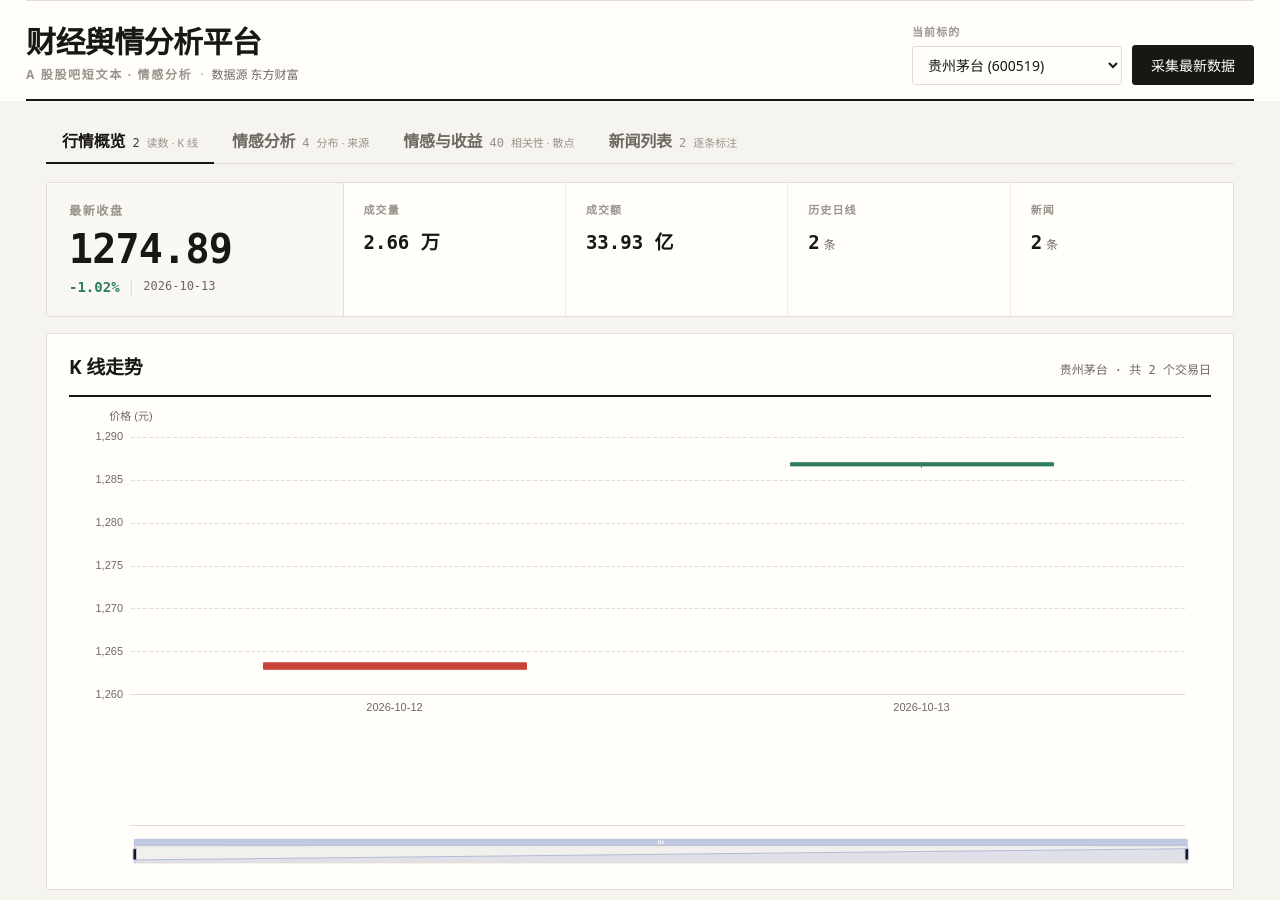
功能导航 › 切换页签后数据不丢,切回不用重新请求
Click the tab "新闻列表 2 逐条标注": (673, 141) x1=593 y1=119 x2=753 y2=163
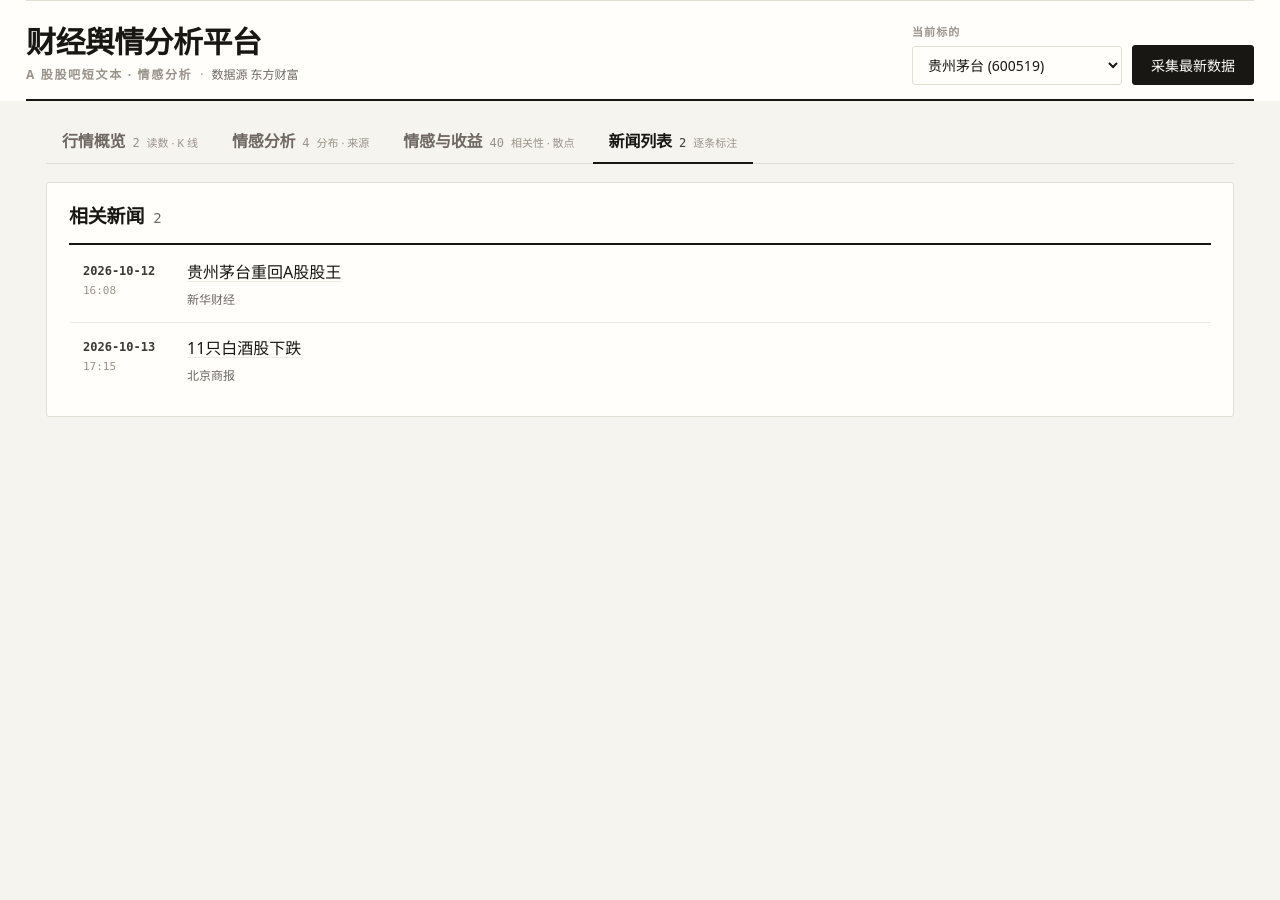
Click the tab "行情概览 2 读数 · K 线": (130, 141) x1=46 y1=119 x2=214 y2=163
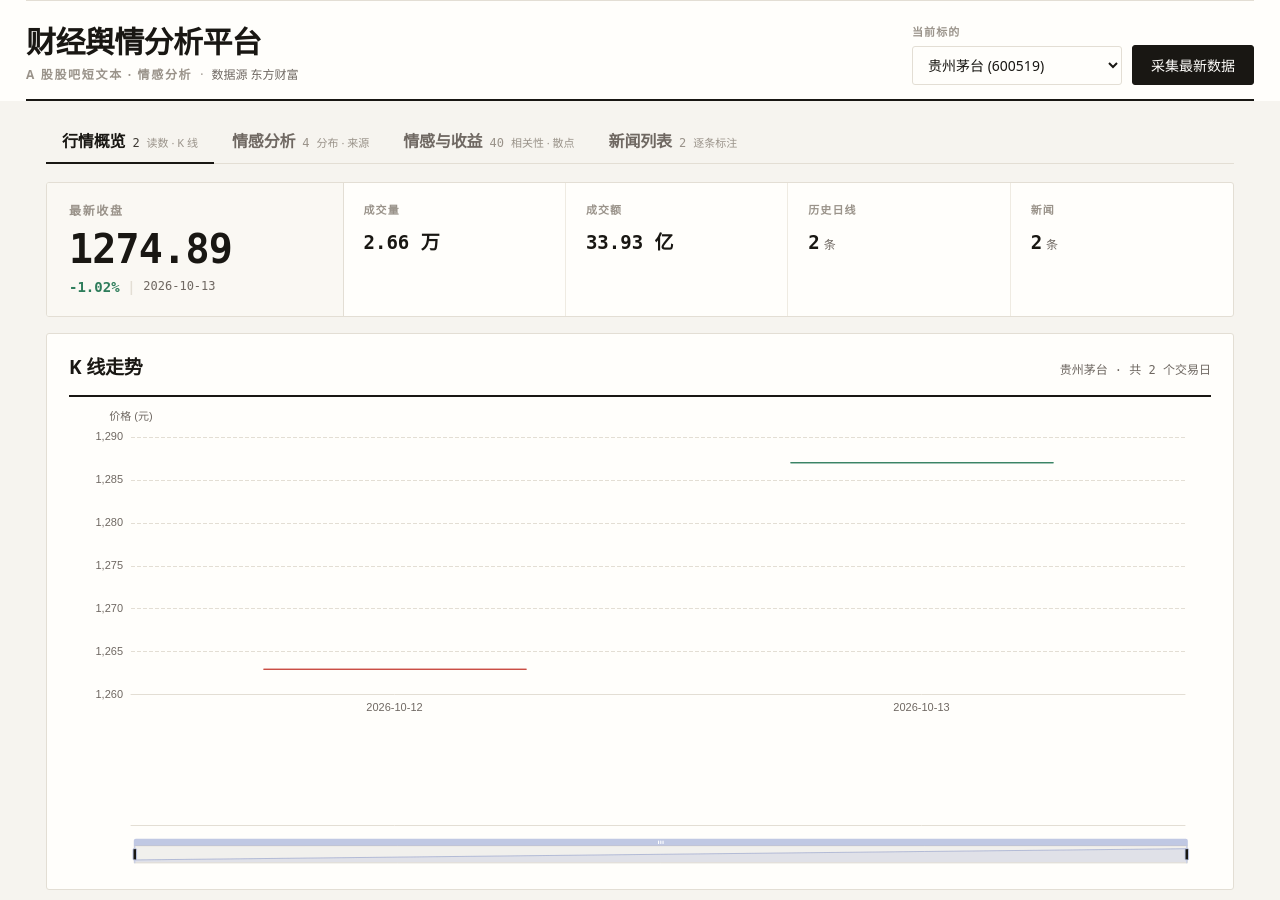
Expected: the text "最新收盘" is shown, x1=69 y1=202 x2=124 y2=219
